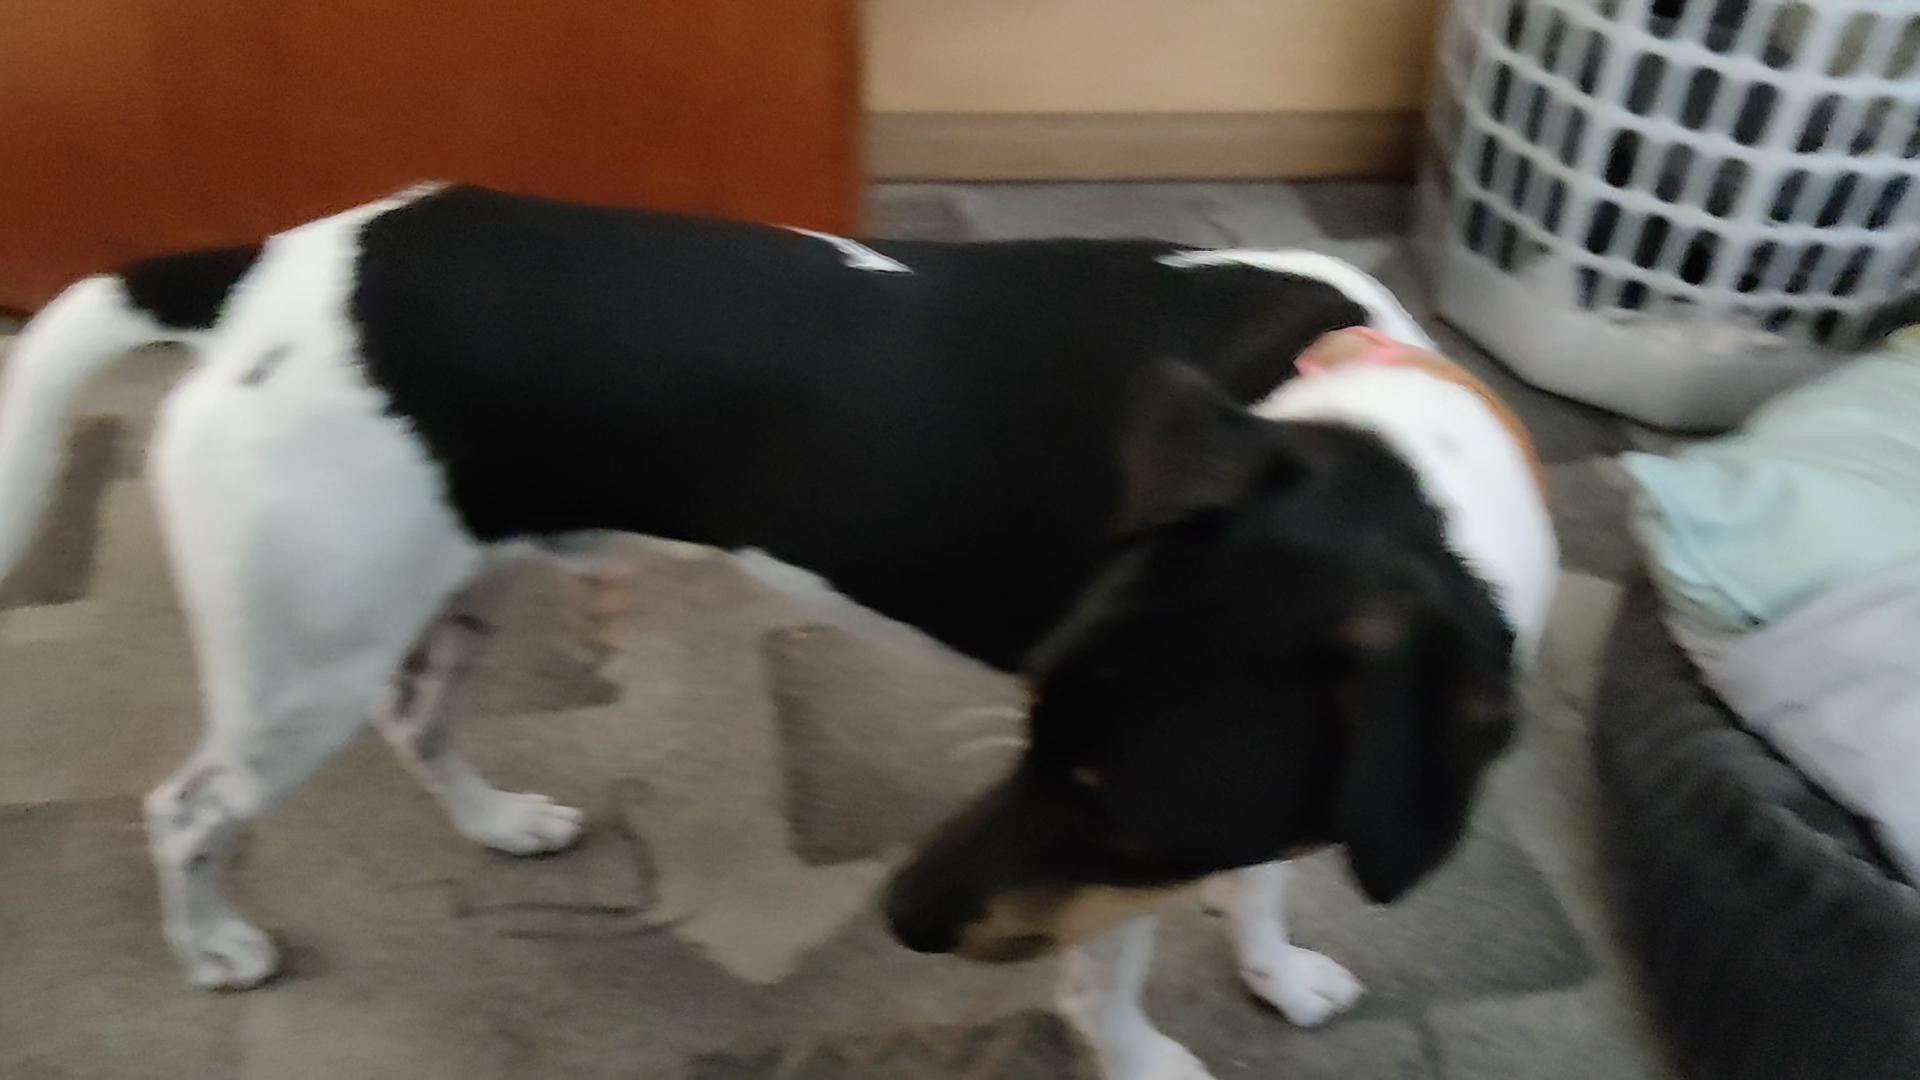Dog: (0, 160, 1576, 1079)
